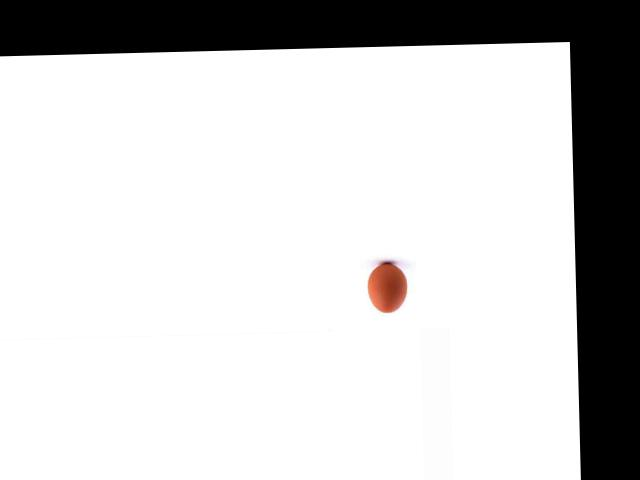egg: (368, 262, 408, 313)
